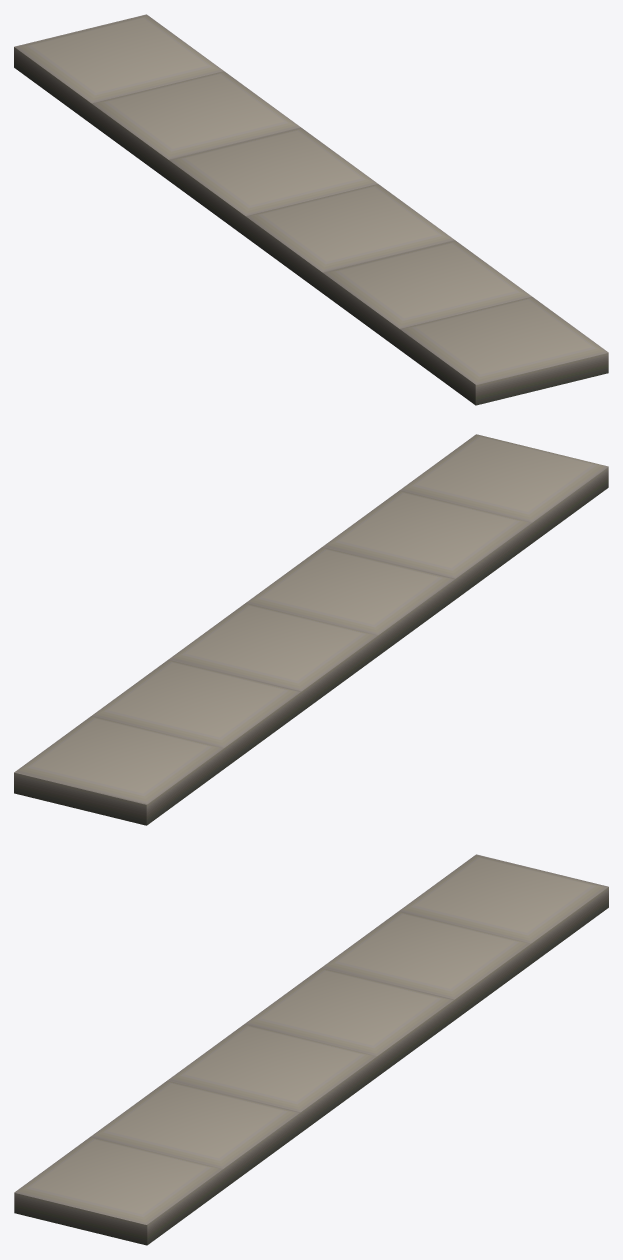
File: side bar.fbx
3 views of the same model, one above another, from view 1: azimuth 30°, elevation 25°; view 2: azimuth 150°, elevation 25°; view 3: azimuth 330°, elevation 25° (orthographic).
Parts seen in each view (by area): view 1: side_bar; view 2: side_bar; view 3: side_bar.
Boxes of the visible parts, x1,y1,x2,y2 form: side_bar: (14,14,608,405); side_bar: (14,434,608,825); side_bar: (14,854,608,1245).
Bounding box in the file's own units: 200 × 35.65 × 1206.
Materials: 1 (1 with a texture image).
